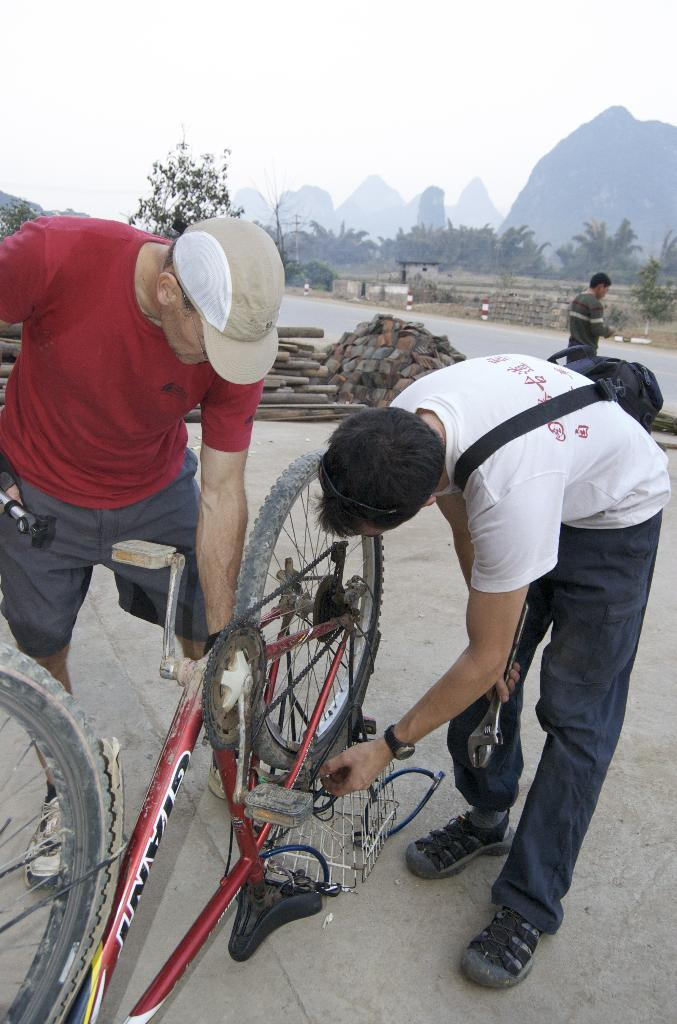Hat: (164, 212, 280, 388)
